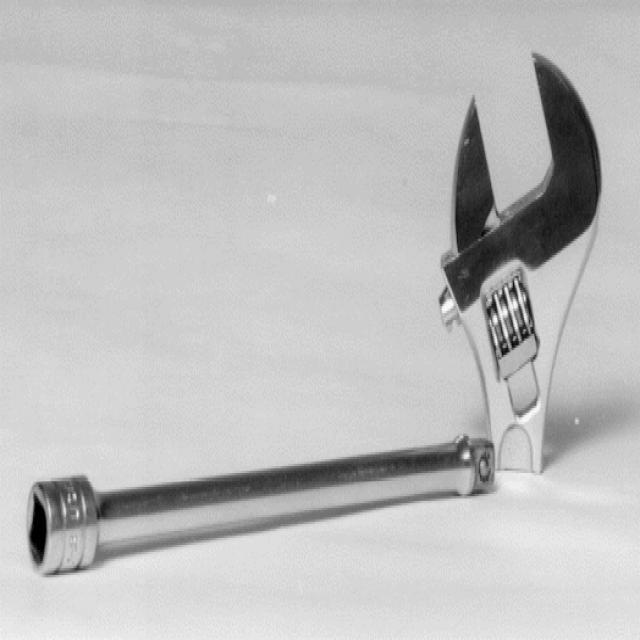wrench: (428, 43, 598, 510)
